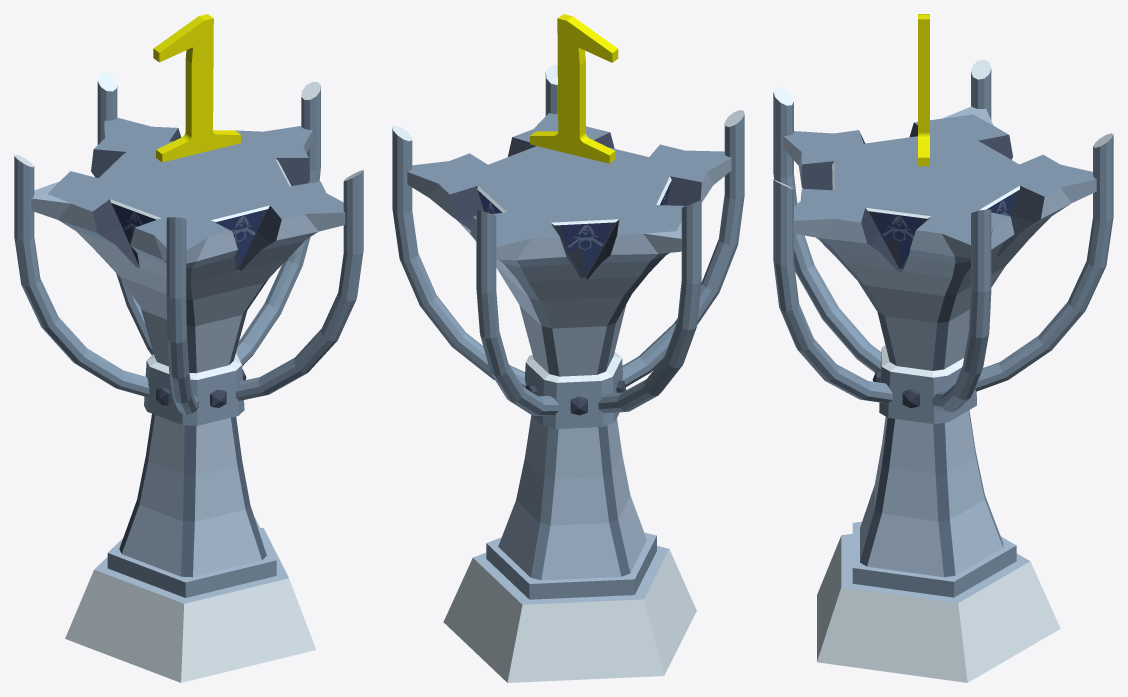
File: LOL cup.fbx
3 renders of one model, left to right at view 1: azimuth 30°, elevation 25°; view 2: azimuth 150°, elevation 25°; view 3: azimuth 270°, elevation 25°, orthographic.
Visible parts, largest first — view 1: cup cktg; view 2: cup cktg; view 3: cup cktg.
Part boxes in pixels (<box>): cup cktg: <box>14,14,363,682</box>; cup cktg: <box>392,14,744,682</box>; cup cktg: <box>773,14,1113,682</box>.
Bounding box in the file's own units: 147 × 281 × 141.
